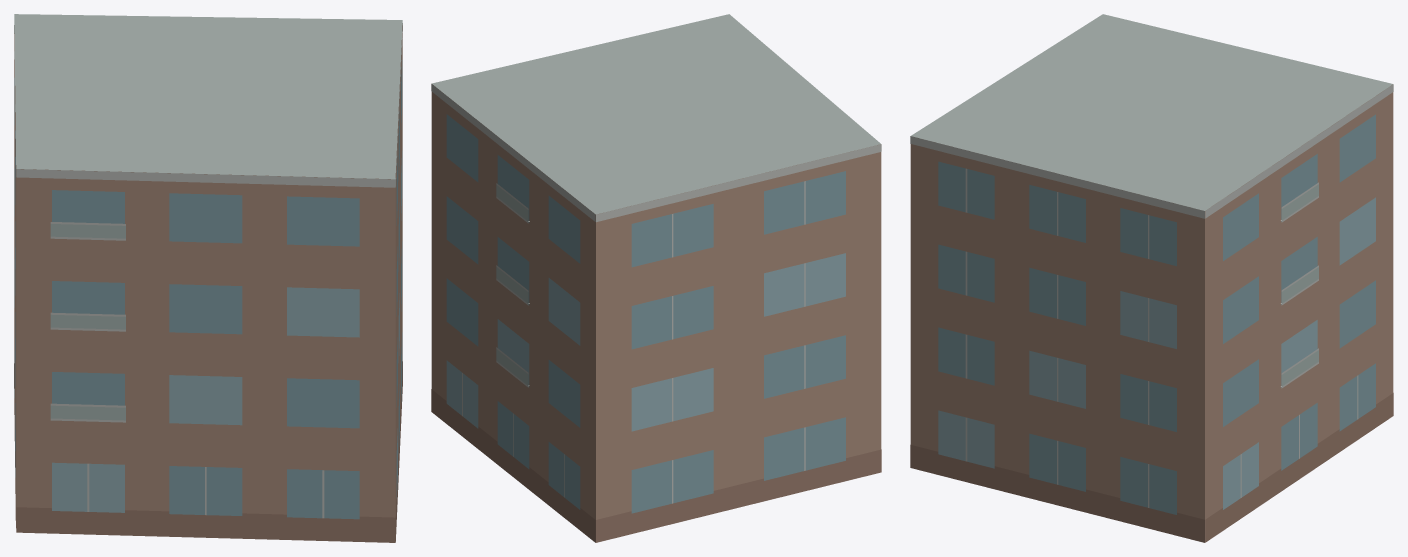
Rendered from survey-upis-32926022.glb.
3 views of the same model, side by side, from view 1: azimuth 30°, elevation 25°; view 2: azimuth 150°, elevation 25°; view 3: azimuth 270°, elevation 25° (orthographic). The views are drawn at different scales.
Parts seen in each view (by area): view 1: survey-upis-32926022.tmp; view 2: survey-upis-32926022.tmp; view 3: survey-upis-32926022.tmp.
Boxes of the visible parts, x1=… form: survey-upis-32926022.tmp: x1=14, y1=14, x2=402, y2=542; survey-upis-32926022.tmp: x1=431, y1=14, x2=881, y2=542; survey-upis-32926022.tmp: x1=910, y1=14, x2=1393, y2=542.
Bounding box in the file's own units: 13.19 × 10.35 × 13.66.
